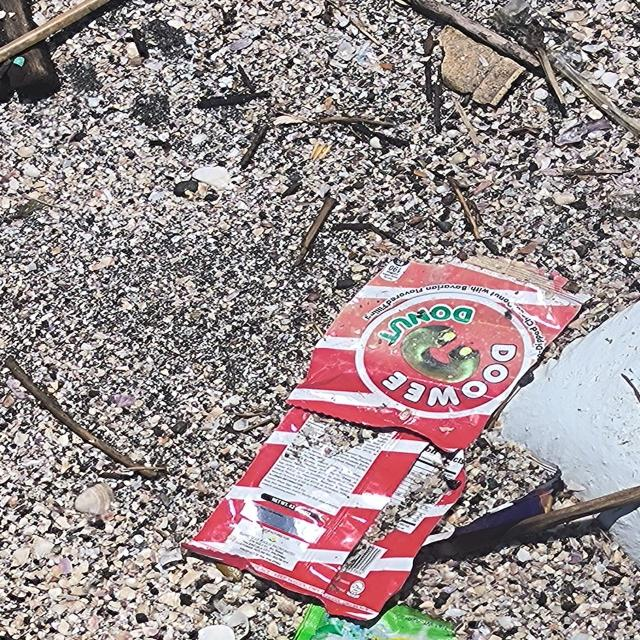plastic_waste: (174, 254, 598, 628)
